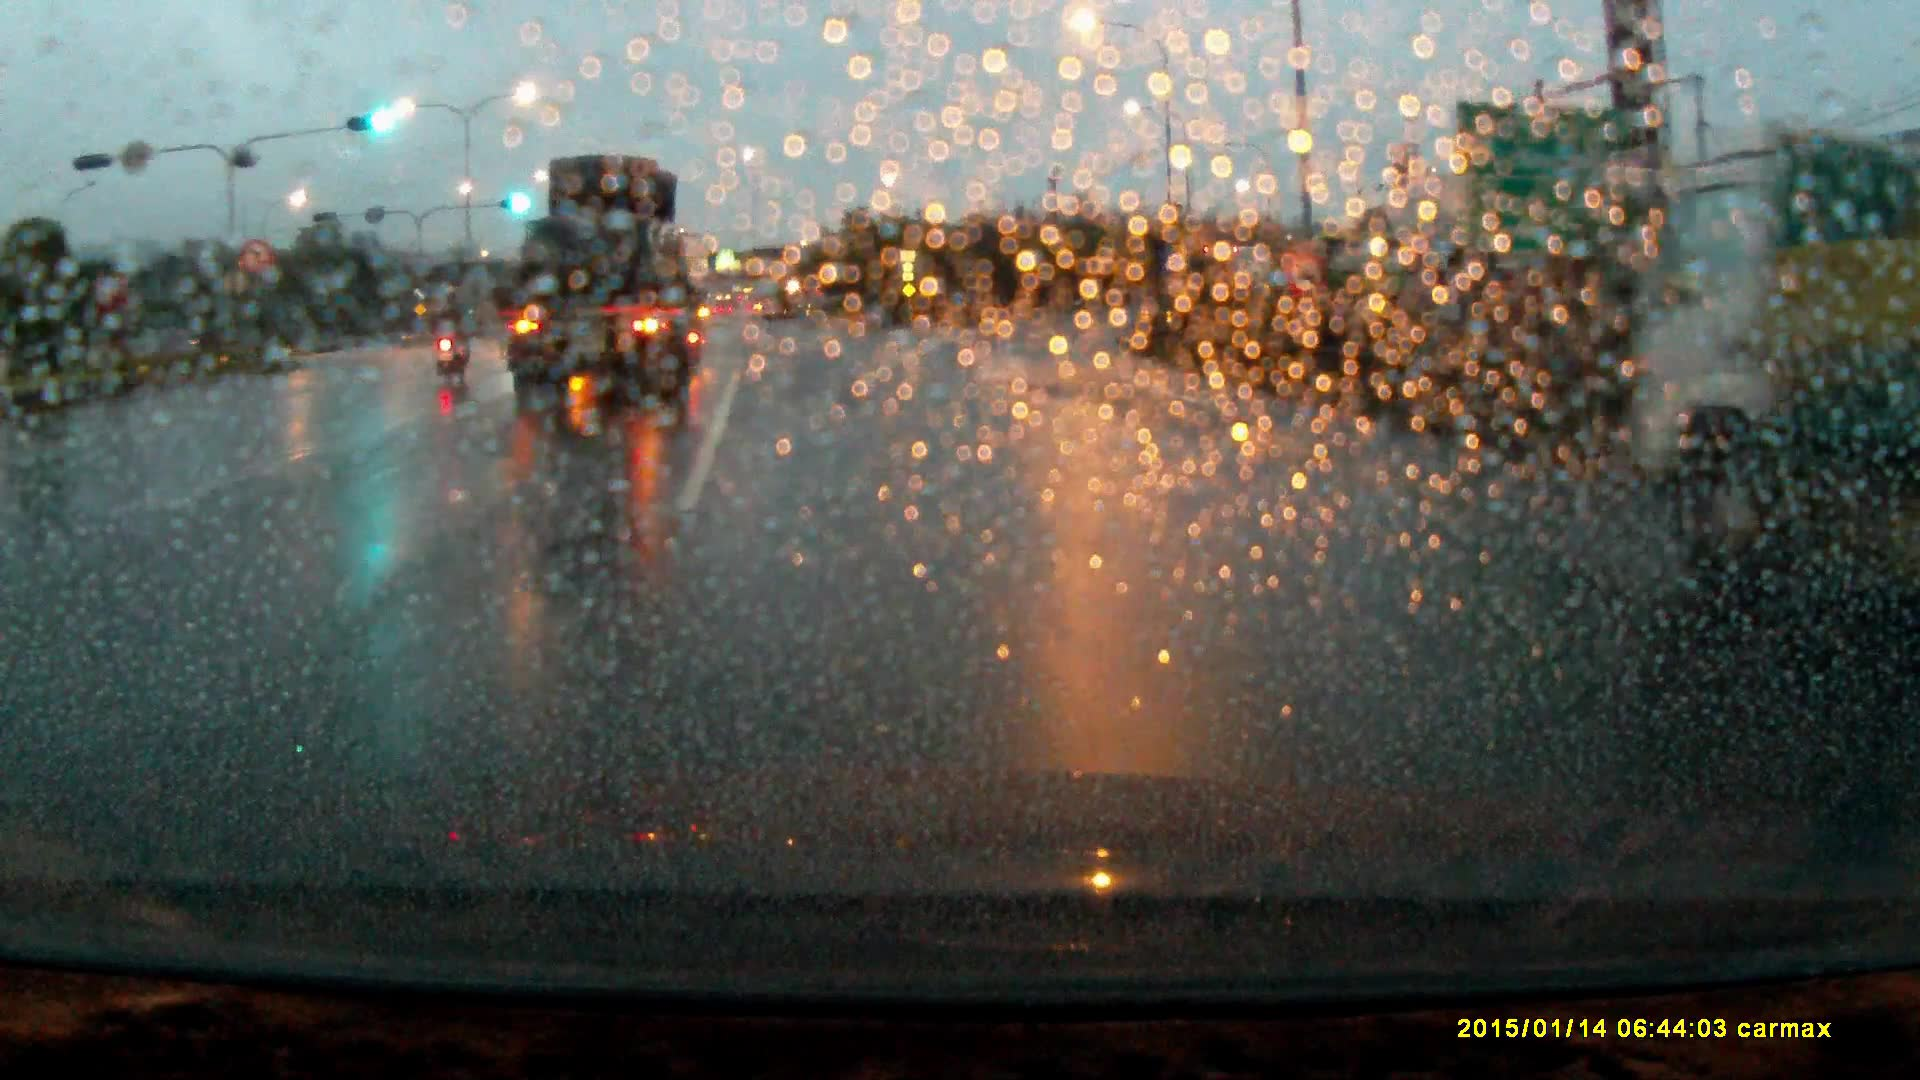rider: (421, 282, 472, 392)
vehicle: (1639, 129, 1920, 574), (502, 149, 706, 408)
